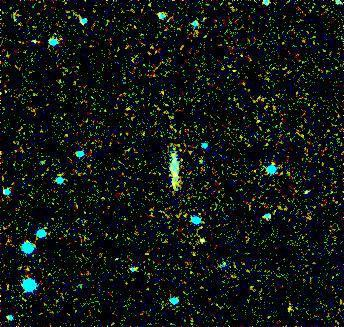star: (270, 290, 300, 320)
